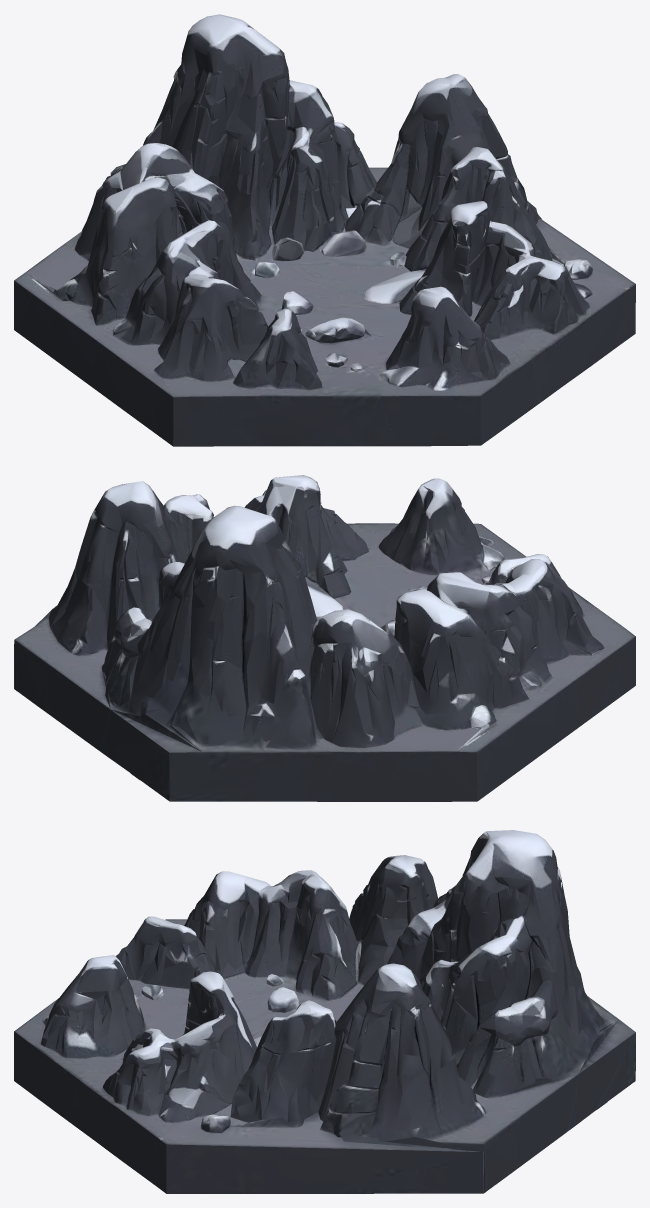
Rendered from montagna.glb.
The picture shows the model from 3 angles, top to bottom: view 1: azimuth 30°, elevation 25°; view 2: azimuth 150°, elevation 25°; view 3: azimuth 270°, elevation 25°; orthographic projection.
Size of the model in its own units: 1.63 by 0.826 by 1.9.
Materials: 1 (1 with a texture image).
